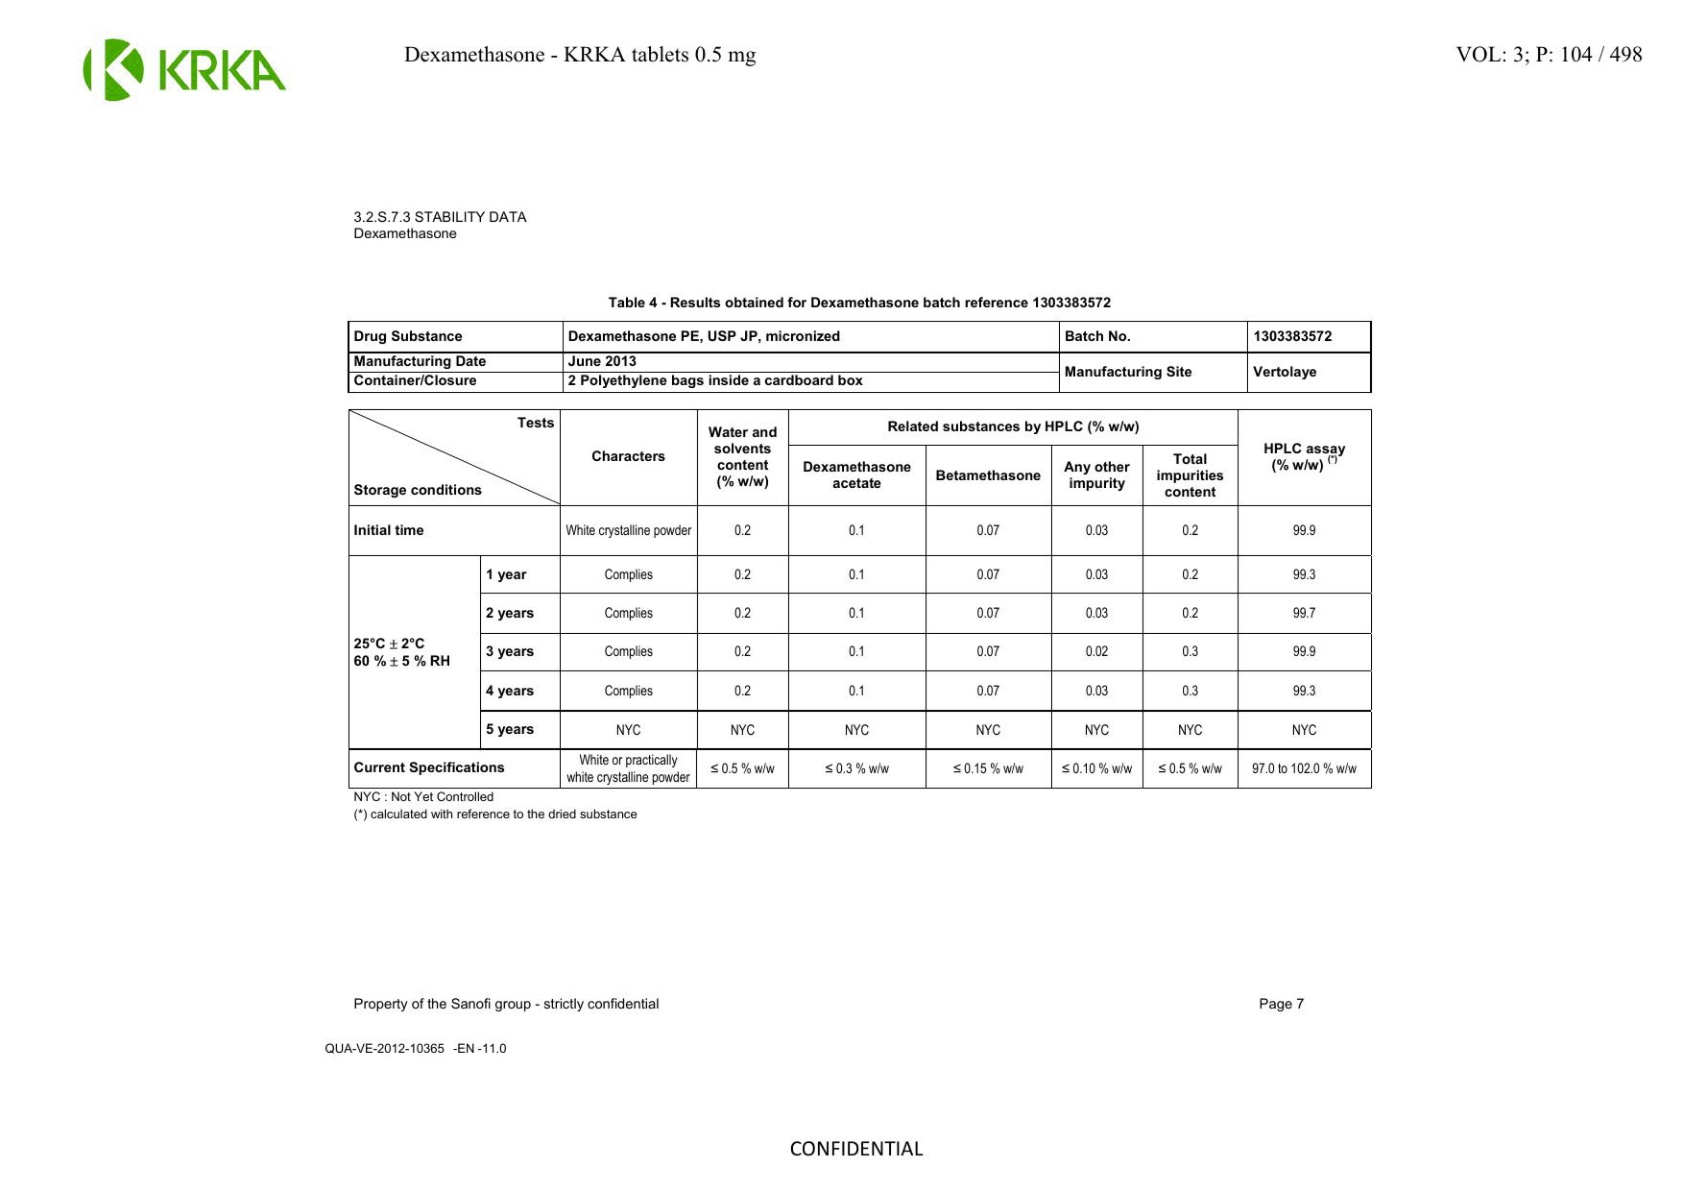merged_cells: (347, 409, 1372, 790), (347, 320, 1372, 393)
